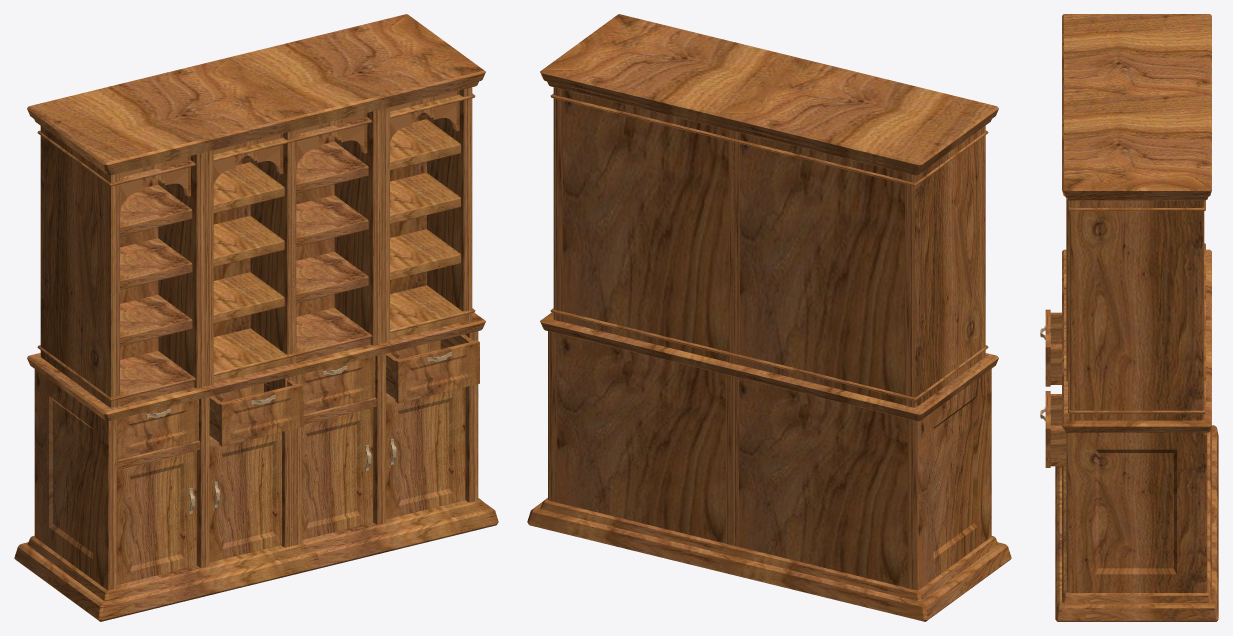
The model's file is bookcase_a4112060.glb.
3 views of the same model, side by side, from view 1: azimuth 30°, elevation 25°; view 2: azimuth 150°, elevation 25°; view 3: azimuth 270°, elevation 25° (orthographic). The views are drawn at different scales.
Parts seen in each view (by area): view 1: pCube59, pCube67, pCube61, pCube20, pCube28, pCube54, pCube39, pCube62, pCube38, pCube63, pCube16, pCube9 (+28 smaller); view 2: pCube59, pCube28, pCube55, pCube15, pCube67, pCube61, pCube20, pCube9, pCube10, pCube51, pCube53, pCube57 (+4 smaller); view 3: pCube28, pCube9, pCube20, pCube61, pCube59, pCube35, pCube58, pCube36, pCube17, pCube21, pCube37.
Boxes of the visible parts, x1,y1,x2,y2 form: pCube59: (14, 353, 320, 621); pCube67: (40, 126, 119, 407); pCube61: (27, 57, 308, 171); pCube20: (205, 14, 485, 128); pCube28: (264, 312, 498, 578); pCube54: (117, 451, 196, 584); pCube39: (386, 387, 465, 519); pCube62: (209, 432, 281, 562); pCube38: (302, 408, 373, 539); pCube63: (158, 152, 205, 388); pCube16: (334, 109, 381, 345); pCube9: (427, 87, 472, 321); pCube59: (705, 353, 1011, 621); pCube28: (527, 312, 746, 568); pCube55: (739, 132, 904, 405); pCube15: (563, 89, 728, 362); pCube67: (905, 126, 985, 407); pCube61: (718, 57, 998, 171); pCube20: (540, 14, 819, 127); pCube9: (553, 87, 562, 321); pCube10: (728, 130, 736, 364); pCube51: (731, 130, 739, 364); pCube53: (724, 119, 991, 175); pCube57: (728, 130, 988, 186); pCube28: (1055, 331, 1218, 621); pCube9: (1069, 200, 1204, 420); pCube20: (1062, 95, 1211, 196); pCube61: (1062, 14, 1211, 107); pCube59: (1055, 249, 1218, 535); pCube35: (1045, 391, 1066, 467); pCube58: (1045, 309, 1061, 386); pCube36: (1068, 324, 1205, 413); pCube17: (1066, 199, 1069, 381); pCube21: (1065, 197, 1208, 200); pCube37: (1068, 200, 1205, 210).
Size of the model in its own units: 0.2546 by 0.276 by 0.104.
Materials: 2 (1 with a texture image).
